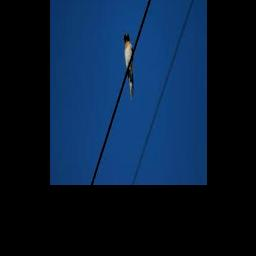Swallow: (124, 32, 135, 99)
